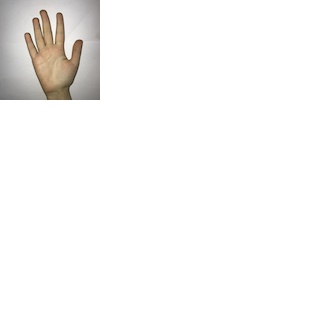paper: (17, 5, 84, 92)
